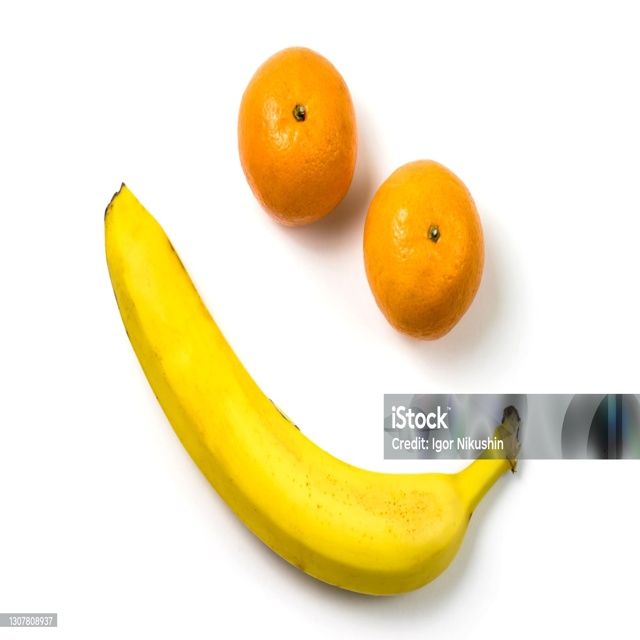banana: (108, 393, 574, 596), (82, 171, 216, 405)
orange: (212, 32, 373, 227), (349, 164, 504, 342)
